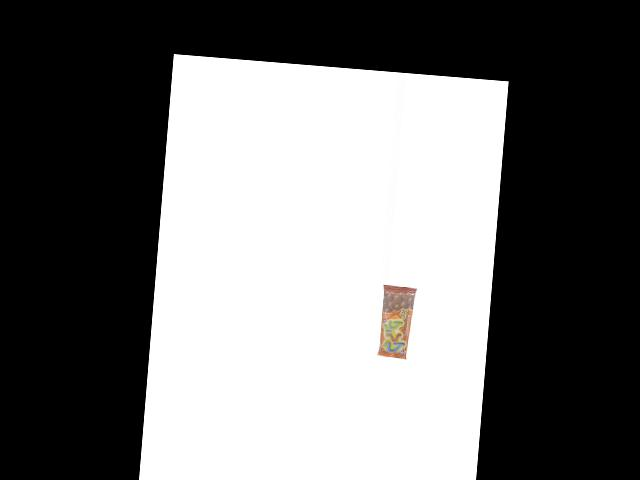chocolate: (377, 284, 415, 359)
